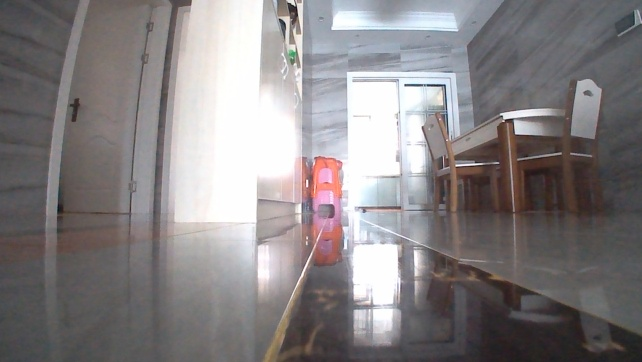dining_table: (419, 77, 605, 214)
door_anno: (58, 2, 173, 224)
